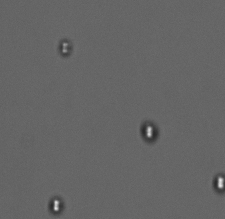Living Cell: (139, 121, 160, 144), (48, 197, 65, 214), (58, 39, 73, 57)
